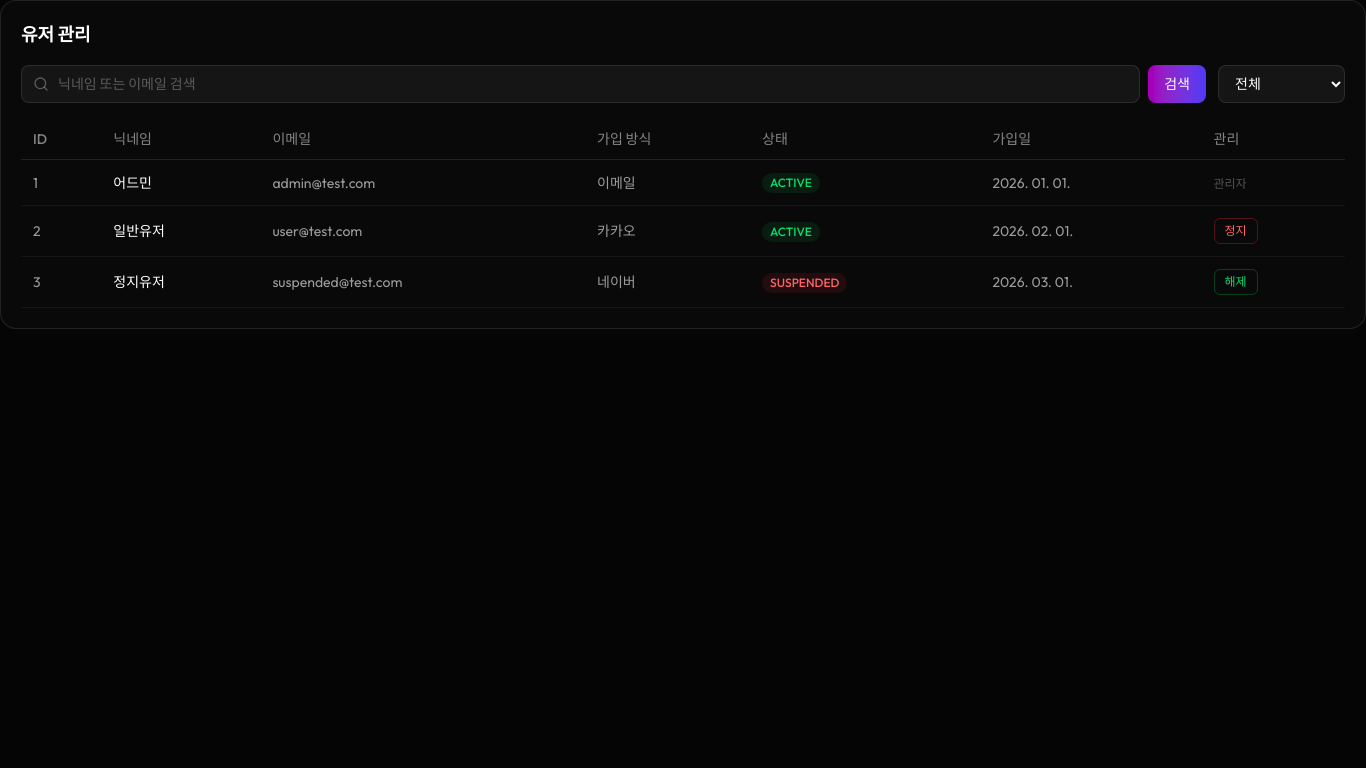
Test: UserManagement › "정지" 버튼 클릭 시 확인 모달을 표시해야 한다
Click the button "정지": (1236, 231) [1214,218,1258,244]
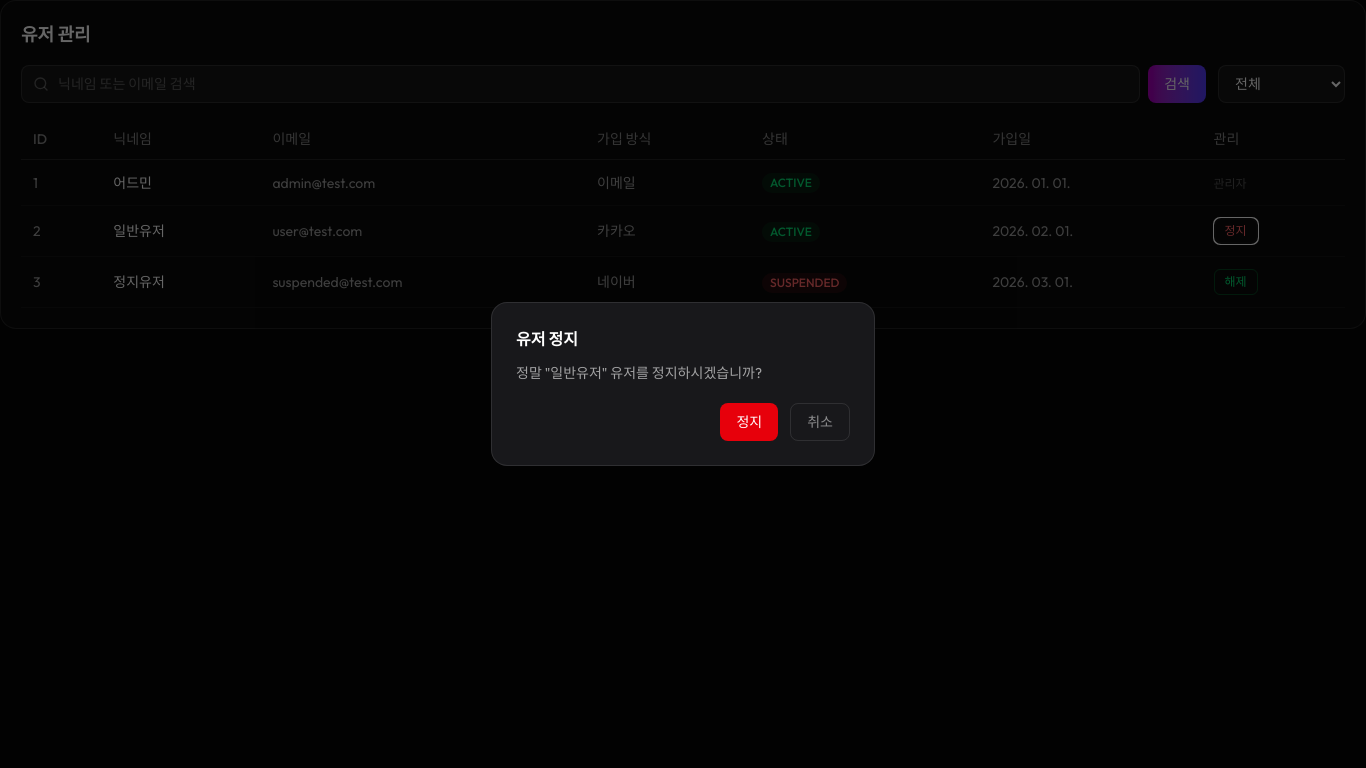
expect the text "정말 \"일반유저\" 유저를 정지하시겠습니까?" is shown: met, box [516,364,762,382]
